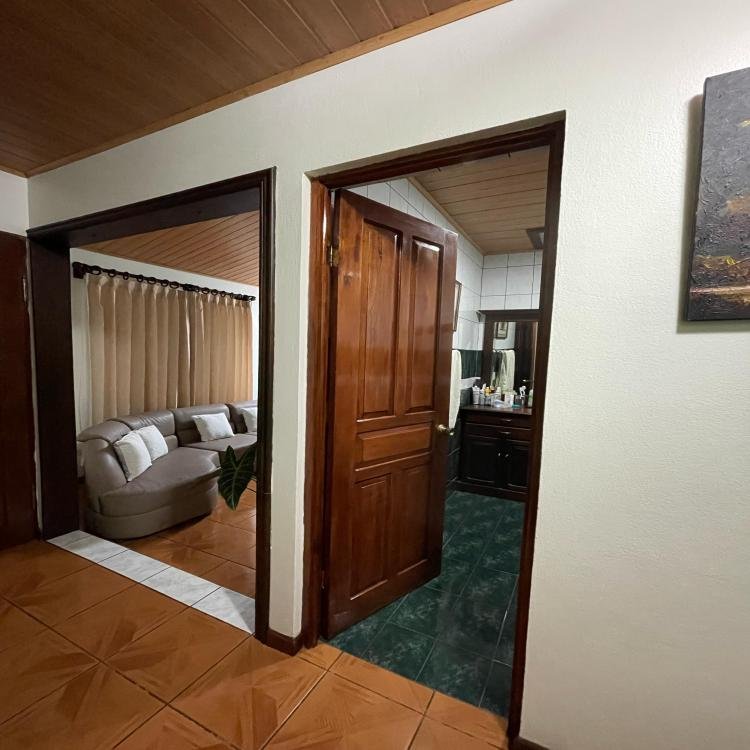OpenDoor: (299, 104, 579, 750), (28, 161, 280, 645)
